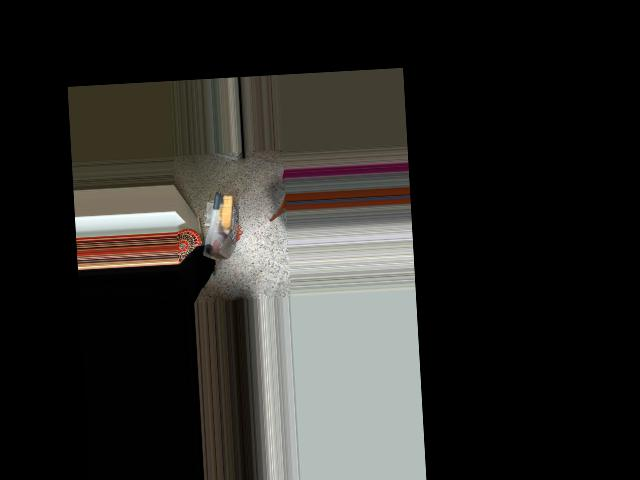cheese: (197, 191, 242, 259)
